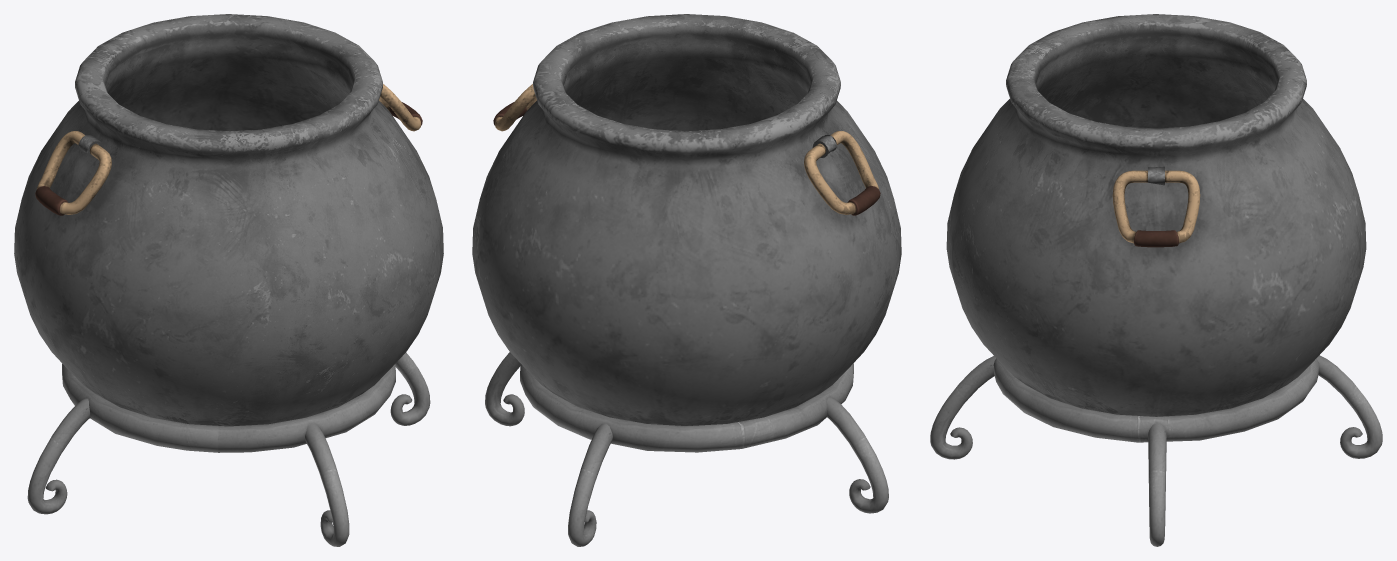
The model's file is cauldron.glb.
3 views of the same model, side by side, from view 1: azimuth 30°, elevation 25°; view 2: azimuth 150°, elevation 25°; view 3: azimuth 270°, elevation 25° (orthographic). The views are drawn at different scales.
Parts seen in each view (by area): view 1: CauldronPot_low, Stand_low, Standlegs_low, CauldronHandle_low; view 2: CauldronPot_low, Stand_low, Standlegs_low, CauldronHandle_low; view 3: CauldronPot_low, Stand_low, Standlegs_low, CauldronHandle_low.
Part boxes in pixels (x1,y1,x2,y2): CauldronPot_low: (14, 14, 443, 426); Stand_low: (62, 363, 395, 452); Standlegs_low: (27, 352, 430, 546); CauldronHandle_low: (35, 84, 422, 215); CauldronPot_low: (472, 14, 901, 425); Stand_low: (520, 363, 853, 452); Standlegs_low: (485, 352, 888, 546); CauldronHandle_low: (493, 84, 880, 215); CauldronPot_low: (946, 14, 1366, 416); Stand_low: (993, 358, 1319, 442); Standlegs_low: (930, 355, 1382, 546); CauldronHandle_low: (1112, 170, 1200, 247).
Size of the model in its own units: 1.06 by 0.9938 by 1.06.
1 material, 1 textured.
